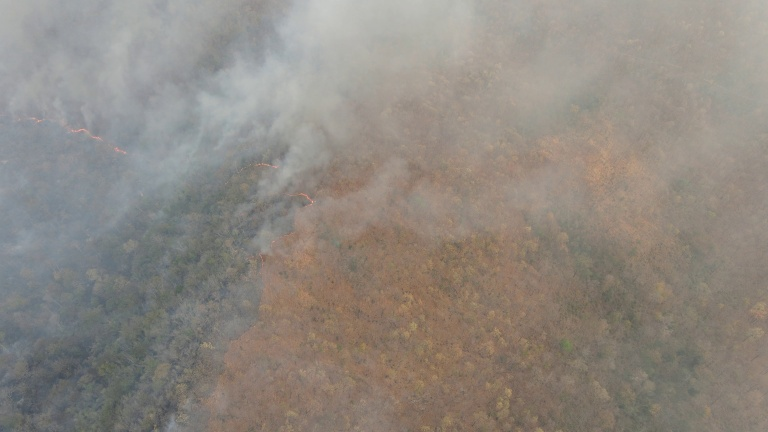fire: (9, 109, 129, 162), (266, 186, 320, 254), (242, 158, 287, 178)
smoke: (13, 1, 434, 247)
